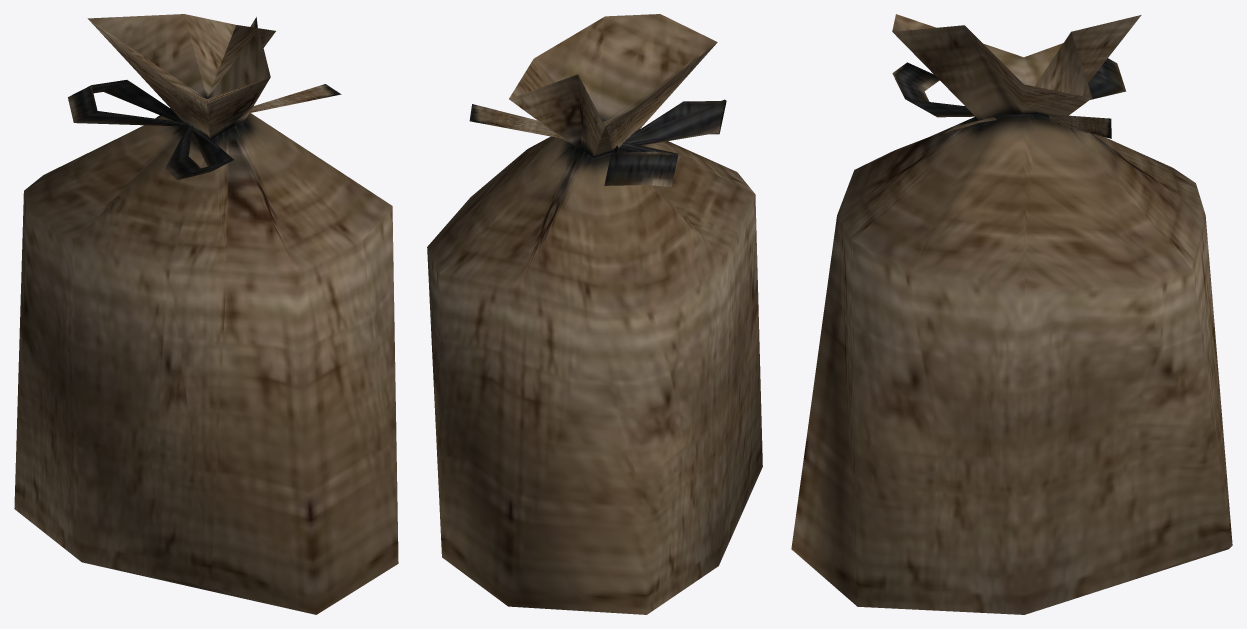
File: package_sack.fbx
The picture shows the model from 3 angles, left to right: view 1: azimuth 30°, elevation 25°; view 2: azimuth 150°, elevation 25°; view 3: azimuth 270°, elevation 25°; orthographic projection. The views are drawn at different scales.
Parts seen in each view (by area): view 1: package, Package_tie; view 2: package, Package_tie; view 3: package, Package_tie.
Part boxes in pixels (x1=…): package: x1=14, y1=14, x2=398, y2=614; Package_tie: x1=68, y1=17, x2=341, y2=180; package: x1=427, y1=14, x2=762, y2=614; Package_tie: x1=469, y1=99, x2=726, y2=186; package: x1=791, y1=14, x2=1232, y2=614; Package_tie: x1=892, y1=58, x2=1126, y2=138.
Bounding box in the file's own units: 80.74 × 150 × 112.
Materials: 1 (1 with a texture image).
